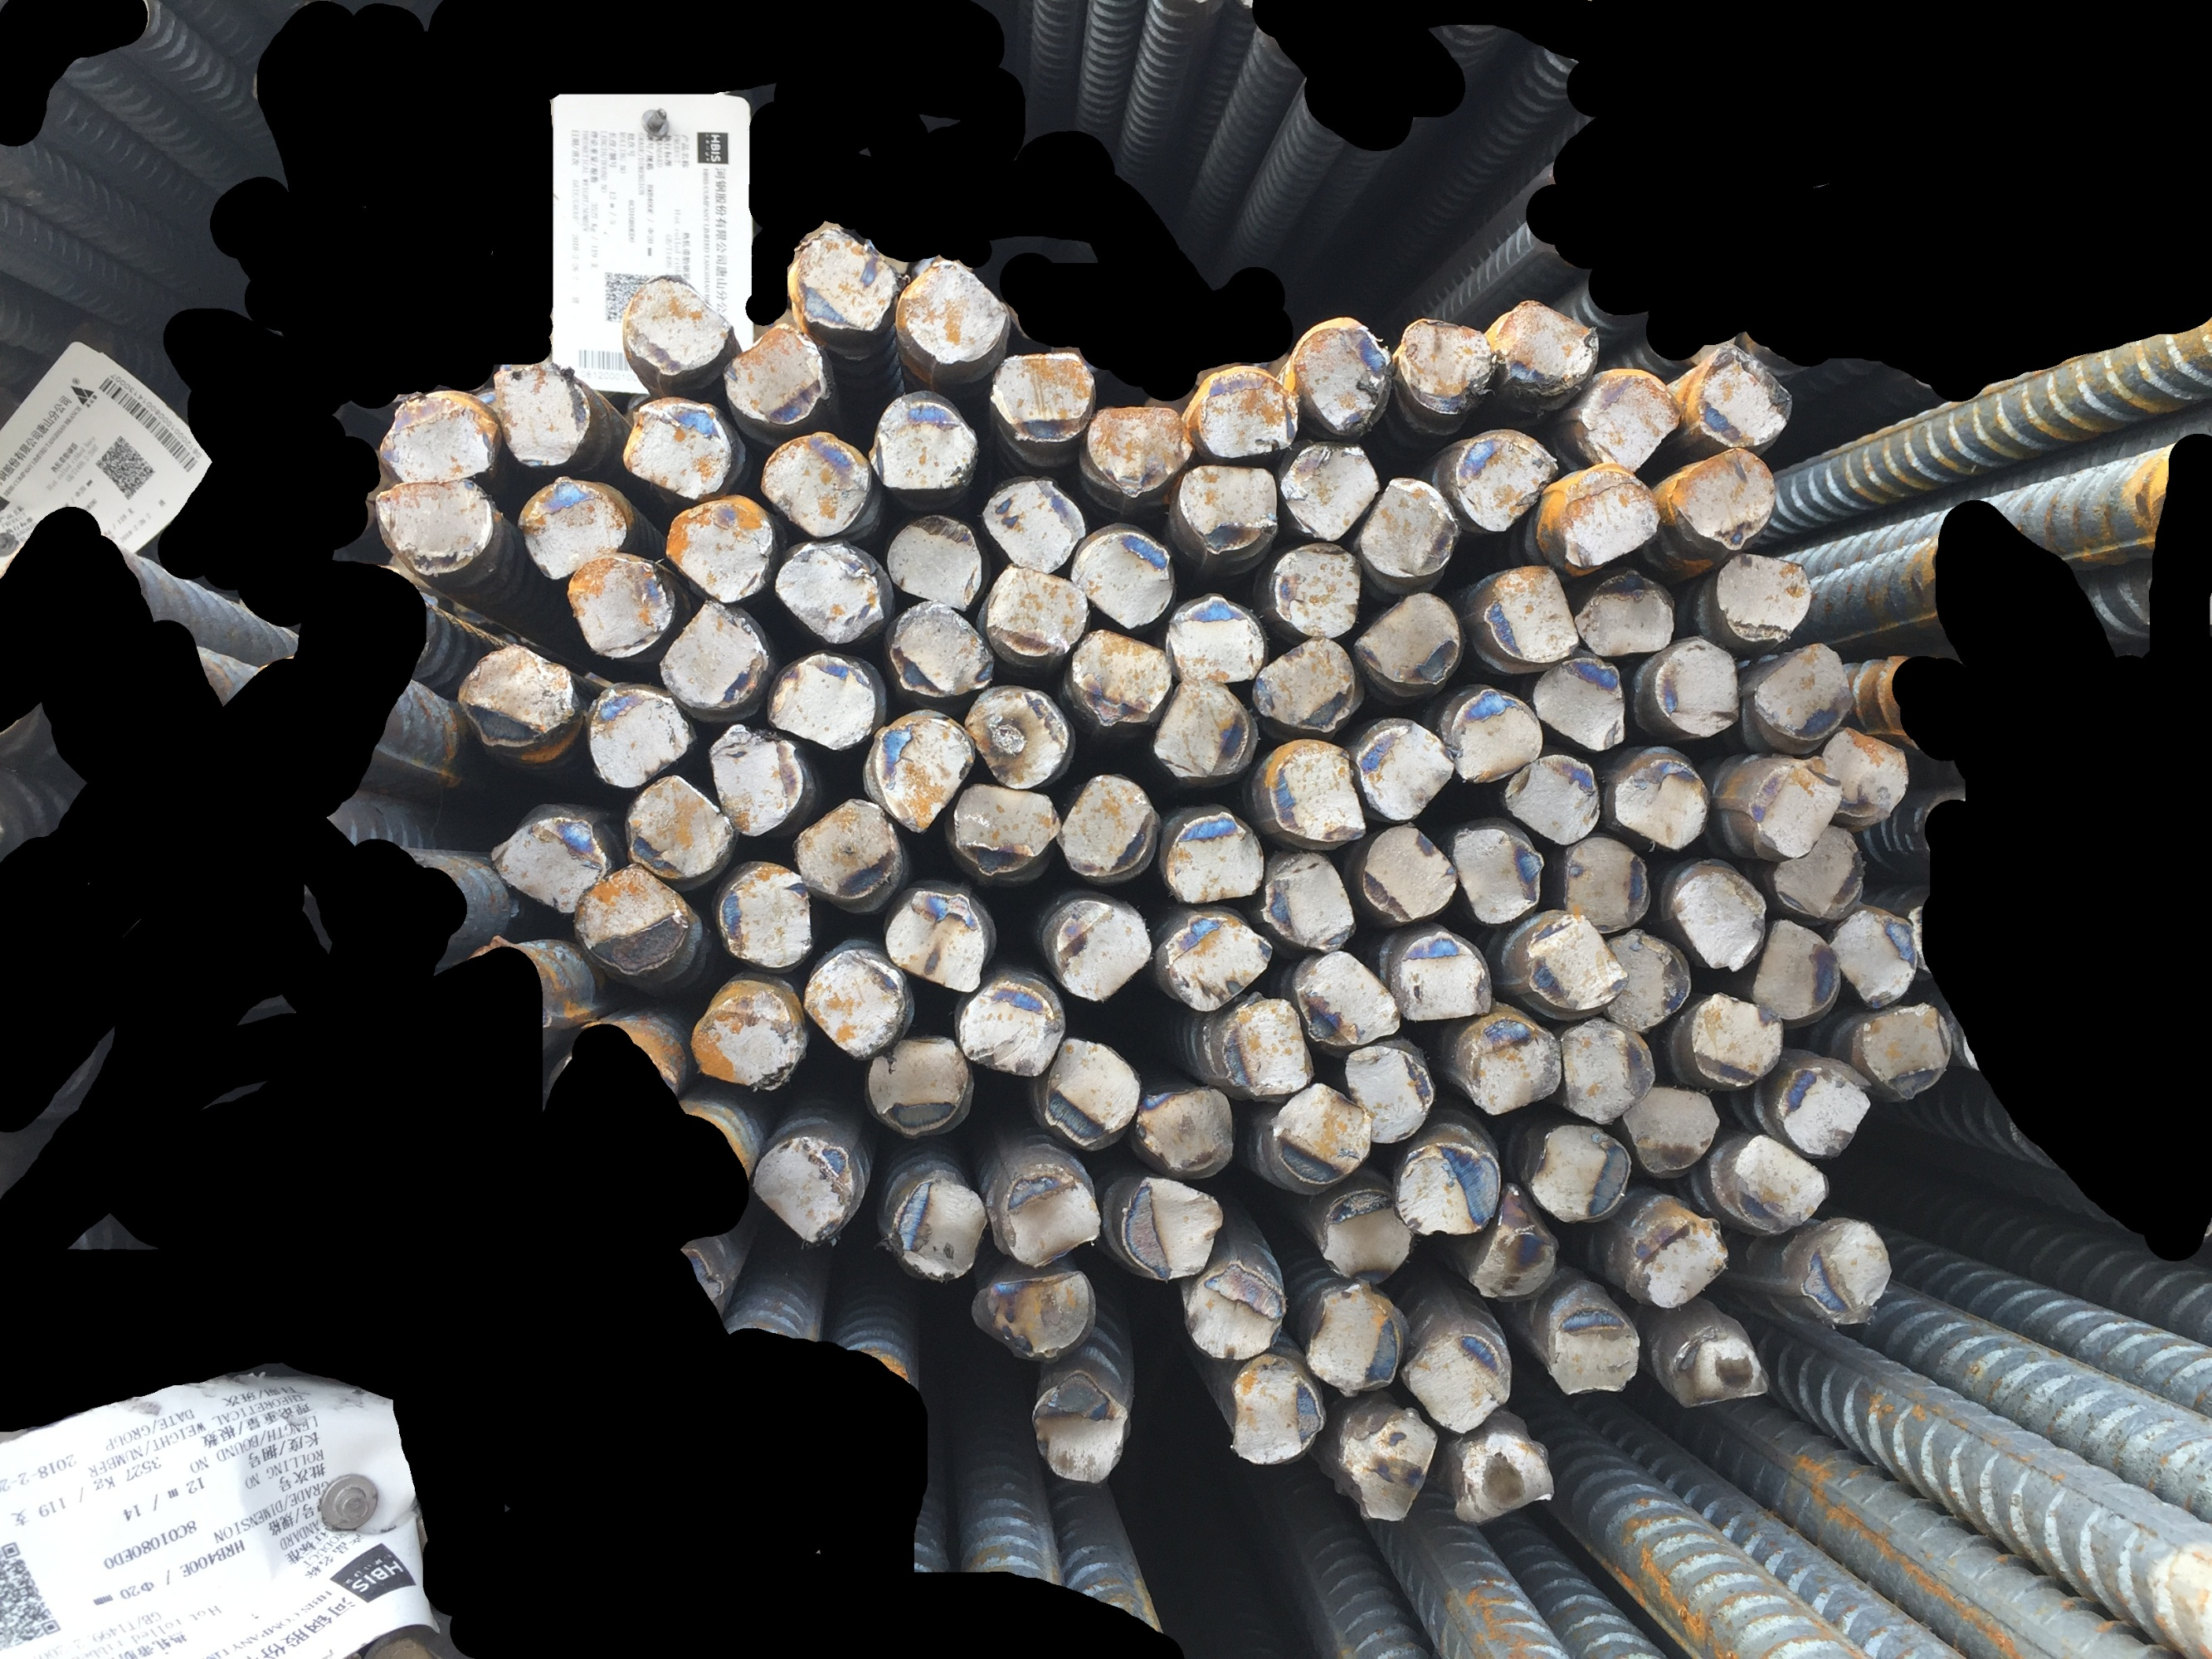rebar: (889, 247, 1018, 371), (485, 796, 615, 917), (567, 859, 692, 981), (1543, 455, 1668, 575), (856, 1023, 974, 1147), (744, 1126, 861, 1251), (751, 429, 877, 545), (655, 596, 776, 716), (457, 638, 579, 756), (699, 716, 809, 847), (797, 941, 913, 1063), (781, 221, 903, 338), (790, 793, 906, 915), (621, 767, 739, 885), (767, 537, 891, 650), (1455, 1178, 1565, 1305), (967, 1260, 1100, 1364), (511, 469, 629, 586), (865, 709, 974, 835), (1684, 338, 1801, 455), (657, 491, 776, 606), (1021, 1370, 1137, 1488), (580, 683, 702, 795), (1285, 319, 1396, 441), (1250, 735, 1372, 847), (615, 267, 739, 376), (615, 394, 739, 504), (1245, 626, 1363, 739), (1393, 1326, 1515, 1436), (1550, 1009, 1659, 1131), (1039, 896, 1156, 1009), (994, 1155, 1105, 1274), (1663, 444, 1781, 556), (863, 389, 983, 498), (1060, 526, 1180, 636), (370, 476, 497, 579), (1114, 1169, 1227, 1284), (687, 985, 804, 1096), (1262, 1079, 1379, 1190), (763, 647, 882, 756), (1300, 1277, 1410, 1396), (1333, 1401, 1438, 1525), (1154, 911, 1279, 1014), (715, 317, 830, 429), (880, 596, 999, 704), (1715, 1129, 1834, 1237), (1347, 586, 1466, 694), (885, 1171, 992, 1291), (1492, 293, 1604, 406), (980, 556, 1095, 666), (960, 685, 1075, 795), (713, 857, 821, 974), (974, 469, 1091, 577), (1051, 767, 1159, 884), (1288, 945, 1405, 1053), (945, 777, 1063, 884), (1079, 397, 1199, 502), (1225, 1349, 1330, 1469), (1748, 636, 1860, 748), (1525, 1119, 1635, 1232), (1353, 472, 1462, 586), (488, 357, 596, 472), (561, 552, 676, 660), (882, 882, 990, 997), (1520, 906, 1635, 1014), (1189, 361, 1306, 467), (1063, 624, 1180, 730), (1389, 1138, 1506, 1244), (1356, 817, 1462, 934), (1037, 1035, 1147, 1147), (1449, 427, 1560, 537), (1471, 559, 1584, 667), (1665, 861, 1771, 976), (983, 347, 1100, 451), (950, 976, 1067, 1080), (1252, 849, 1361, 958), (1347, 714, 1457, 824), (1276, 434, 1382, 547), (1574, 366, 1686, 472), (1130, 1080, 1243, 1185), (375, 392, 502, 484), (1768, 819, 1876, 927), (1180, 1258, 1290, 1364), (1157, 807, 1269, 911), (1337, 1037, 1440, 1150), (1607, 751, 1715, 857), (1215, 992, 1320, 1101), (1384, 925, 1499, 1025), (1175, 455, 1281, 561), (1768, 1060, 1874, 1166), (1443, 683, 1550, 789), (880, 509, 988, 613), (1447, 814, 1548, 925), (1797, 1215, 1896, 1328), (1462, 1014, 1567, 1121), (1394, 314, 1501, 418), (1710, 545, 1818, 648), (1745, 917, 1842, 1030), (1645, 631, 1743, 744), (1264, 535, 1368, 640), (1314, 1185, 1417, 1290), (1684, 985, 1787, 1089), (1558, 831, 1661, 936), (1501, 748, 1609, 847), (1818, 720, 1916, 829), (1658, 1321, 1774, 1412), (1745, 755, 1846, 859), (1529, 650, 1630, 755), (1152, 674, 1252, 781), (1163, 589, 1269, 688), (1853, 999, 1952, 1105), (1625, 1215, 1734, 1310), (1595, 925, 1691, 1033), (1571, 565, 1679, 660), (1449, 1432, 1558, 1527), (1546, 1297, 1644, 1399), (1825, 906, 1923, 1007), (1625, 1080, 1726, 1176)
